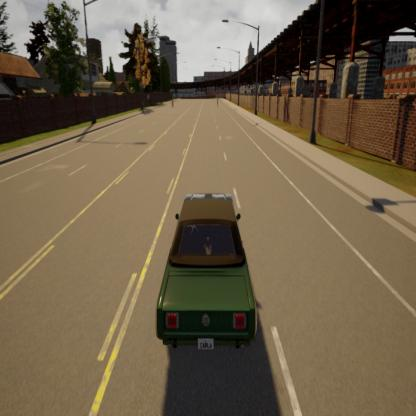Cars: (156, 192, 256, 354), (216, 93, 220, 110), (172, 95, 176, 109)
